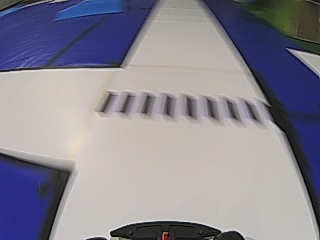CrossWalk: (101, 97, 260, 117)
